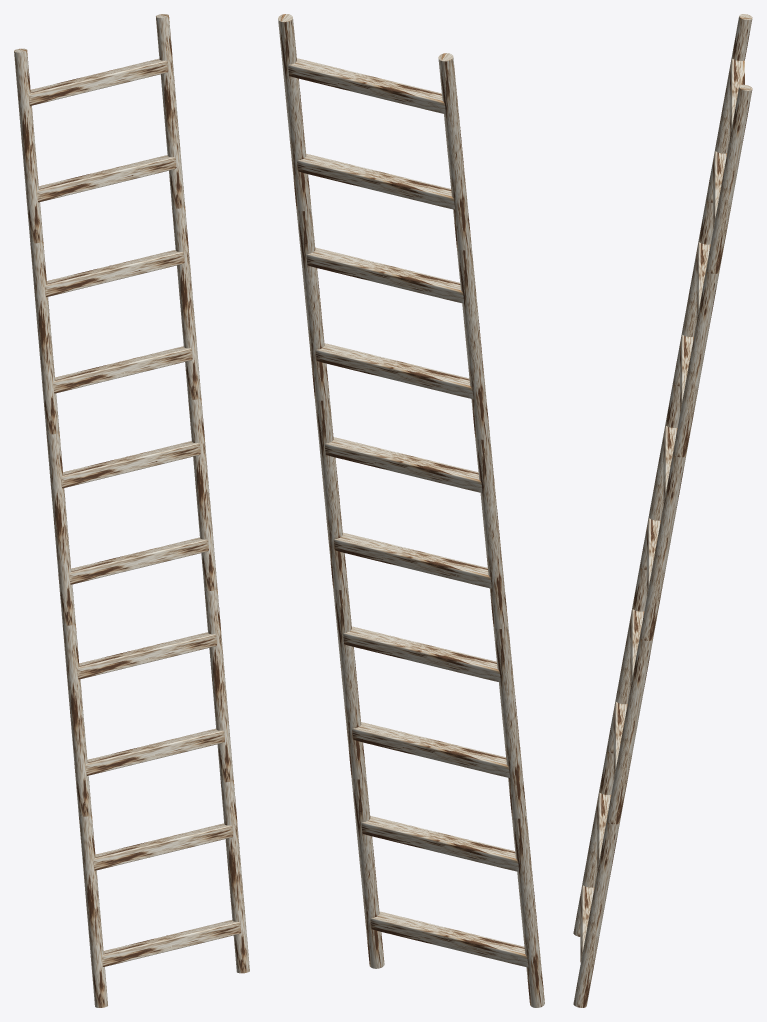
File: WoodLadder.glb
3 renders of one model, left to right at view 1: azimuth 30°, elevation 25°; view 2: azimuth 150°, elevation 25°; view 3: azimuth 270°, elevation 25°, orthographic. The views are drawn at different scales.
Size of the model in its own units: 0.7568 by 4.24 by 0.7485.
1 material, 1 textured.
